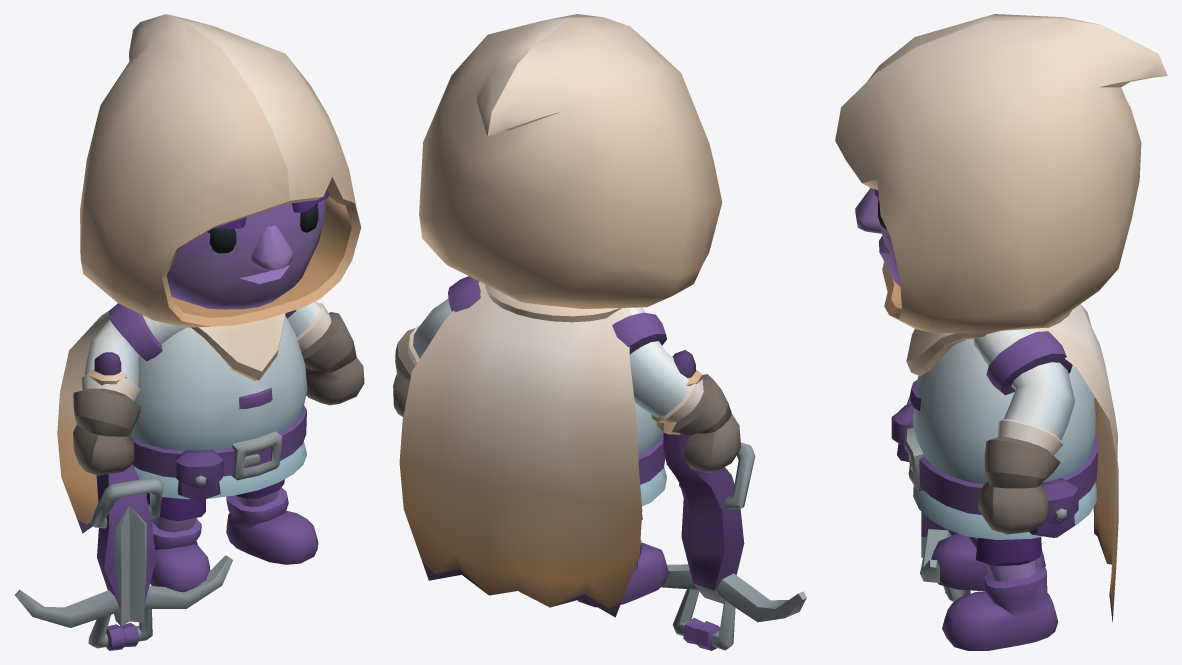
The picture shows the model from 3 angles, left to right: view 1: azimuth 30°, elevation 25°; view 2: azimuth 150°, elevation 25°; view 3: azimuth 270°, elevation 25°; orthographic projection. The views are drawn at different scales.
Parts seen in each view (by area): view 1: Rogue_Head_Hooded, Rogue_Body, 1H_Crossbow, Rogue_ArmRight, Rogue_LegLeft, Rogue_ArmLeft, Rogue_LegRight, Rogue_Cape; view 2: Rogue_Head_Hooded, Rogue_Cape, 1H_Crossbow, Rogue_ArmRight, Rogue_Body, Rogue_ArmLeft, Rogue_LegRight; view 3: Rogue_Head_Hooded, Rogue_Body, Rogue_ArmLeft, Rogue_LegLeft, Rogue_Cape, Rogue_LegRight, 1H_Crossbow.
Boxes of the visible parts, x1,y1,x2,y2 form: Rogue_Head_Hooded: (80, 14, 361, 327); Rogue_Body: (130, 313, 307, 501); 1H_Crossbow: (14, 352, 232, 650); Rogue_ArmRight: (73, 303, 185, 475); Rogue_LegLeft: (226, 479, 318, 564); Rogue_ArmLeft: (285, 301, 364, 405); Rogue_LegRight: (146, 493, 210, 592); Rogue_Cape: (57, 311, 146, 533); Rogue_Head_Hooded: (419, 14, 722, 308); Rogue_Cape: (399, 281, 642, 617); 1H_Crossbow: (656, 350, 806, 650); Rogue_ArmRight: (612, 307, 740, 472); Rogue_Body: (485, 285, 666, 505); Rogue_ArmLeft: (393, 276, 480, 416); Rogue_LegRight: (577, 514, 668, 607); Rogue_Head_Hooded: (835, 14, 1167, 333); Rogue_Body: (891, 310, 1098, 539); Rogue_ArmLeft: (973, 329, 1075, 534); Rogue_LegLeft: (942, 537, 1058, 650); Rogue_Cape: (1026, 304, 1118, 621); Rogue_LegRight: (931, 533, 1045, 591); 1H_Crossbow: (906, 396, 970, 601).
Size of the model in its own units: 1.45 by 2.18 by 1.03.
